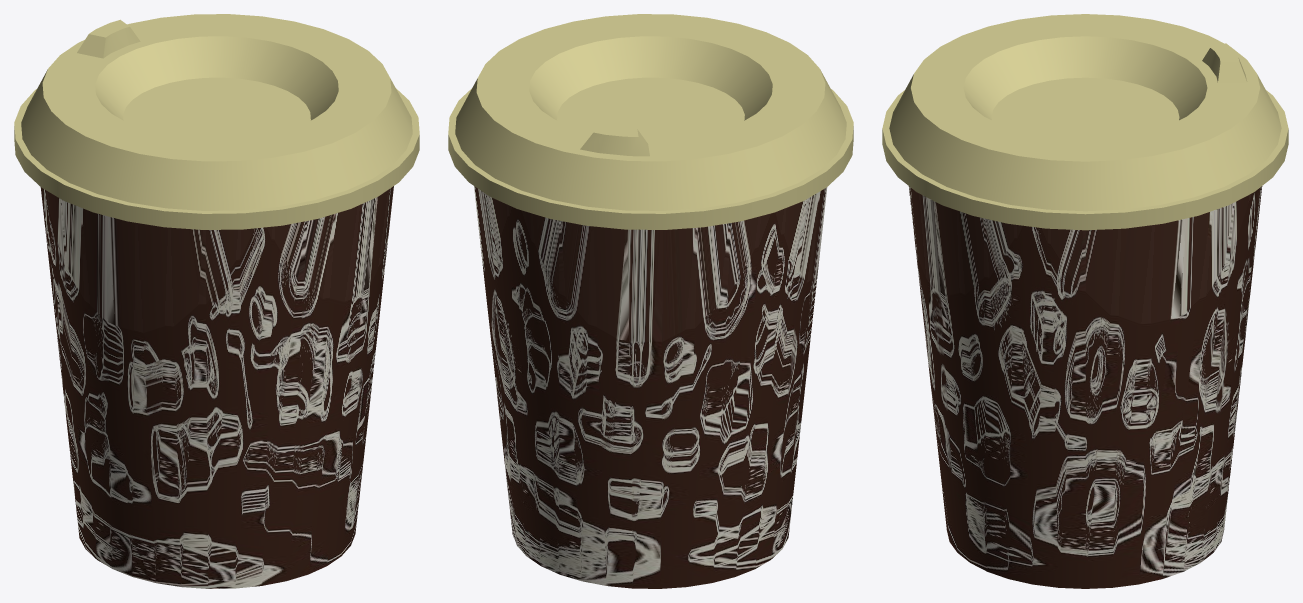
The model's file is coffee.fbx.
3 views of the same model, side by side, from view 1: azimuth 30°, elevation 25°; view 2: azimuth 150°, elevation 25°; view 3: azimuth 270°, elevation 25° (orthographic).
Visible parts, largest first — view 1: Окружность.001; view 2: Окружность.001; view 3: Окружность.001.
Part boxes in pixels (x1,y1,x2,y2): Окружность.001: [14, 14, 419, 588]; Окружность.001: [448, 14, 853, 588]; Окружность.001: [882, 14, 1288, 588].
Size of the model in its own units: 298 by 372 by 298.
2 materials, 1 textured.
